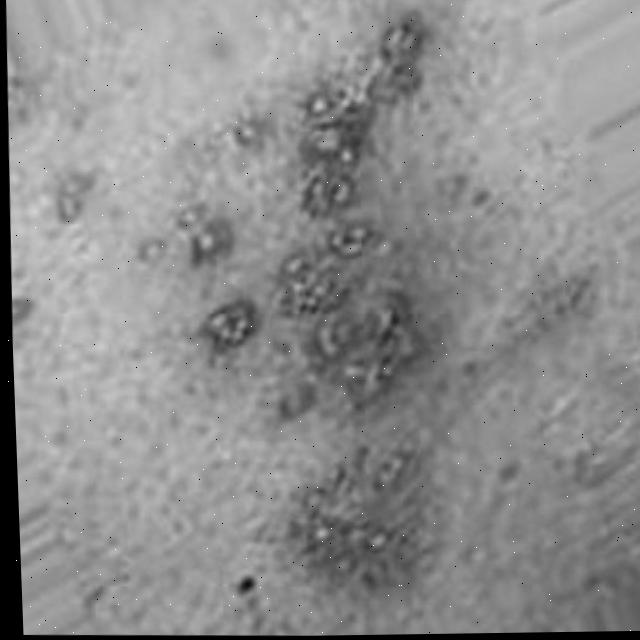Shingles: (179, 23, 435, 423), (304, 455, 425, 567)
